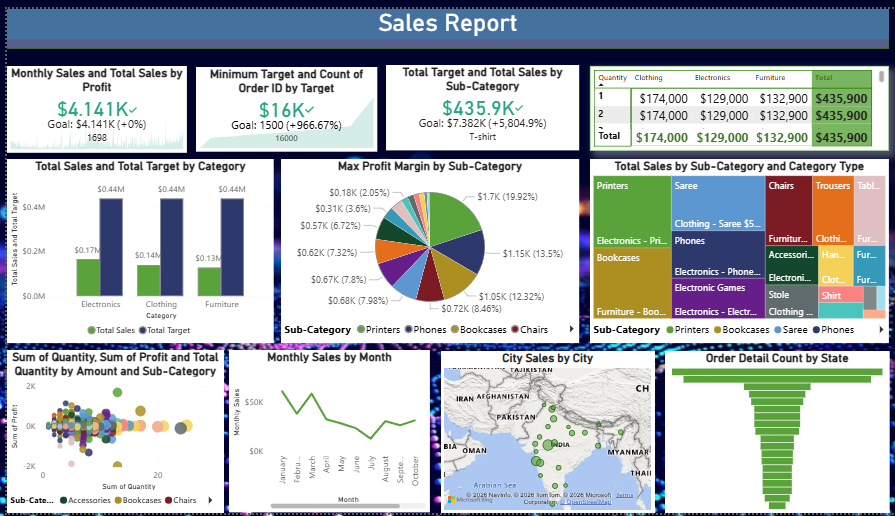

The dashboard page shown, as its layout file describes it:
{"tool":"powerbi","page":{"name":"Page 1","canvas":[1280,720],"ordinal":0},"visuals":[{"type":"clusteredColumnChart","fields":{"Category":["Order Details.Category"],"Y":["Order Details.Total Sales","Sales target.Total Target"]},"box":[0,214.3,381.4,262.9],"z":0},{"type":"pieChart","fields":{"Category":["Order Details.Sub-Category"],"Y":["Order Details.Max Profit Margin"]},"box":[391.4,214.3,425.7,262.9],"z":1000},{"type":"kpi","fields":{"Indicator":["Order Details.Monthly Sales"],"TrendLine":["Order Details.Profit"],"Goal":["Order Details.Total Sales"]},"box":[0,81,257.1,123.8],"z":2000},{"type":"scatterChart","fields":{"X":["Sum(Order Details.Quantity)"],"Y":["Sum(Order Details.Profit)"],"Series":["Order Details.Sub-Category"],"Size":["Order Details.Total Quantity"],"Category":["Order Details.Amount"]},"box":[0,487.3,309.5,233.3],"z":3000},{"type":"lineChart","fields":{"Y":["Order Details.Monthly Sales"],"Category":["List of Orders.Order Date.Variation.Date Hierarchy.Month"]},"box":[317.5,487.3,287.3,231.7],"z":4000},{"type":"kpi","fields":{"Indicator":["Sales target.Total Target"],"Goal":["Order Details.Total Sales"],"TrendLine":["Order Details.Sub-Category"]},"box":[541.3,79.4,276.2,122.2],"z":5000},{"type":"kpi","fields":{"Indicator":["Sales target.Minimum Target"],"TrendLine":["Sales target.Target"],"Goal":["CountNonNull(Order Details.Order ID)"]},"box":[269.8,82.5,258.7,120.6],"z":6000},{"type":"pivotTable","fields":{"Values":["Sales target.Total Target"],"Columns":["Sales target.Category"],"Rows":["Order Details.Quantity"]},"box":[833.3,81,427,120.6],"z":7000},{"type":"map","fields":{"Category":["List of Orders.City"],"Size":["List of Orders.City Sales"]},"box":[620.6,488.9,304.8,231.7],"z":8000},{"type":"treemap","fields":{"Group":["Order Details.Sub-Category","Order Details.Amount"],"Values":["Order Details.Total Sales"],"Details":["Order Details.Category Type"]},"box":[833.3,214.3,427,263.5],"z":9000},{"type":"funnel","fields":{"Category":["List of Orders.State"],"Y":["List of Orders.Order Detail Count"]},"box":[939.7,488.9,320.6,231.7],"z":10000},{"type":"shape","box":[0,0,1260,56.7],"z":11000},{"type":"textbox","title":"Sales Report ","box":[0,0,1260,43.3],"z":12000}]}

Visuals, with their boxes in screenshot pixels (x1, y1, x2, y2), scaled from the page's 1280x720 canvas onto the 895x516 screenshot:
clusteredColumnChart - Order Details.Category x Order Details.Total Sales: left=0, top=154, right=267, bottom=342
pieChart - Order Details.Sub-Category x Order Details.Max Profit Margin: left=274, top=154, right=571, bottom=342
kpi - Order Details.Monthly Sales x Order Details.Profit: left=0, top=58, right=180, bottom=147
scatterChart - Sum(Order Details.Quantity) x Sum(Order Details.Profit): left=0, top=349, right=216, bottom=515
lineChart - Order Details.Monthly Sales x List of Orders.Order Date.Variation.Date Hierarchy.Month: left=222, top=349, right=423, bottom=515
kpi - Sales target.Total Target x Order Details.Total Sales: left=378, top=57, right=572, bottom=144
kpi - Sales target.Minimum Target x Sales target.Target: left=189, top=59, right=370, bottom=146
pivotTable - Sales target.Total Target x Sales target.Category: left=583, top=58, right=881, bottom=144
map - List of Orders.City x List of Orders.City Sales: left=434, top=350, right=647, bottom=515
treemap - Order Details.Sub-Category x Order Details.Amount: left=583, top=154, right=881, bottom=342
funnel - List of Orders.State x List of Orders.Order Detail Count: left=657, top=350, right=881, bottom=515
shape: left=0, top=0, right=881, bottom=41
"Sales Report " textbox: left=0, top=0, right=881, bottom=31
